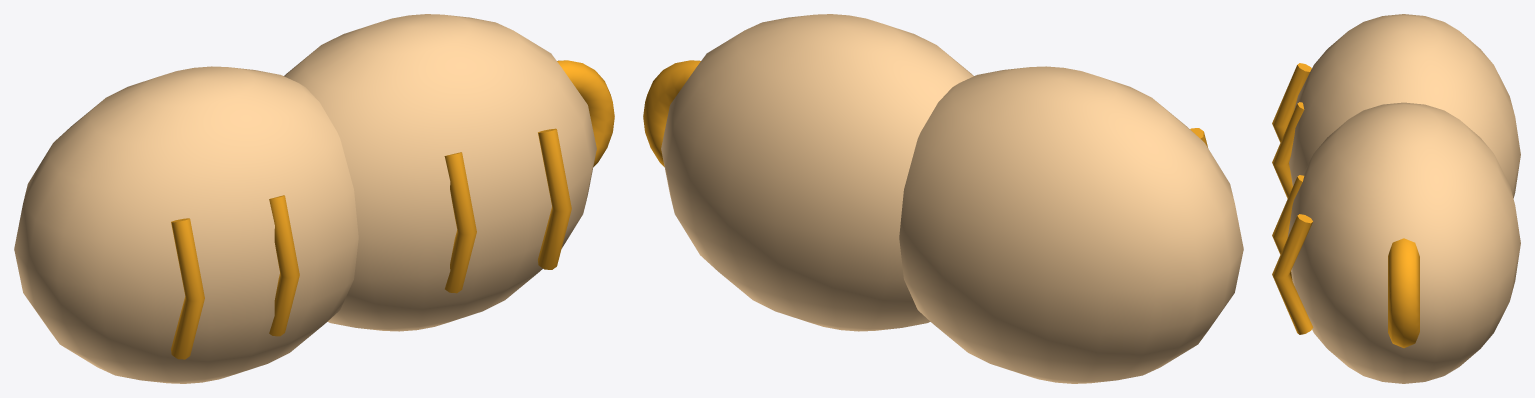
File: jadepeanut.glb
The picture shows the model from 3 angles, left to right: view 1: azimuth 30°, elevation 25°; view 2: azimuth 150°, elevation 25°; view 3: azimuth 270°, elevation 25°; orthographic projection. The views are drawn at different scales.
Visible parts, largest first — view 1: jadepeanut; view 2: jadepeanut; view 3: jadepeanut.
Part boxes in pixels (x1=…): jadepeanut: x1=14, y1=14, x2=614, y2=383; jadepeanut: x1=643, y1=14, x2=1243, y2=383; jadepeanut: x1=1272, y1=14, x2=1520, y2=383.
Bounding box in the file's own units: 1 × 0.4752 × 0.4363.
Materials: 1 (1 with a texture image).
